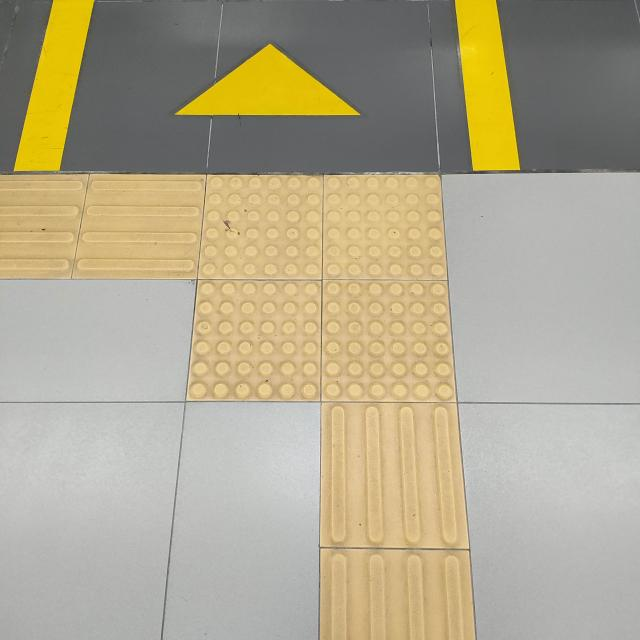kiri: (2, 118, 580, 514)
